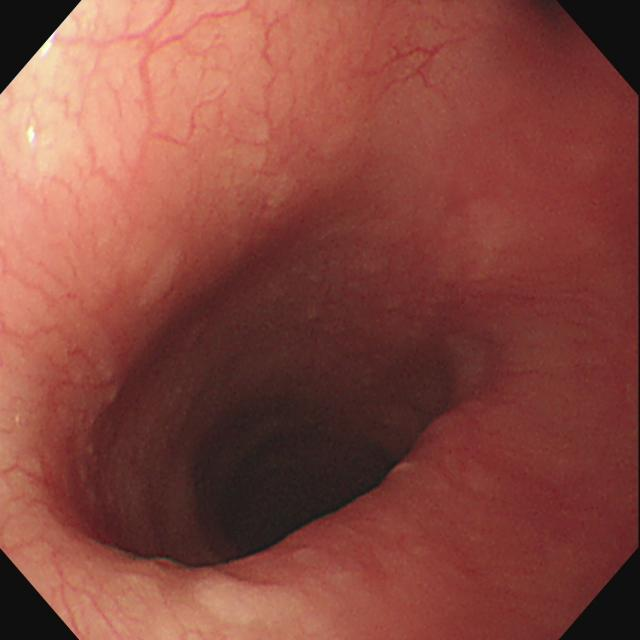E: (214, 431, 390, 556)
U: (25, 124, 37, 146)
